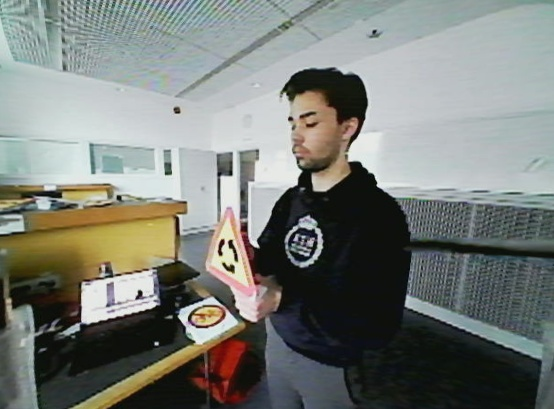roundabout_warning: (199, 204, 258, 305)
